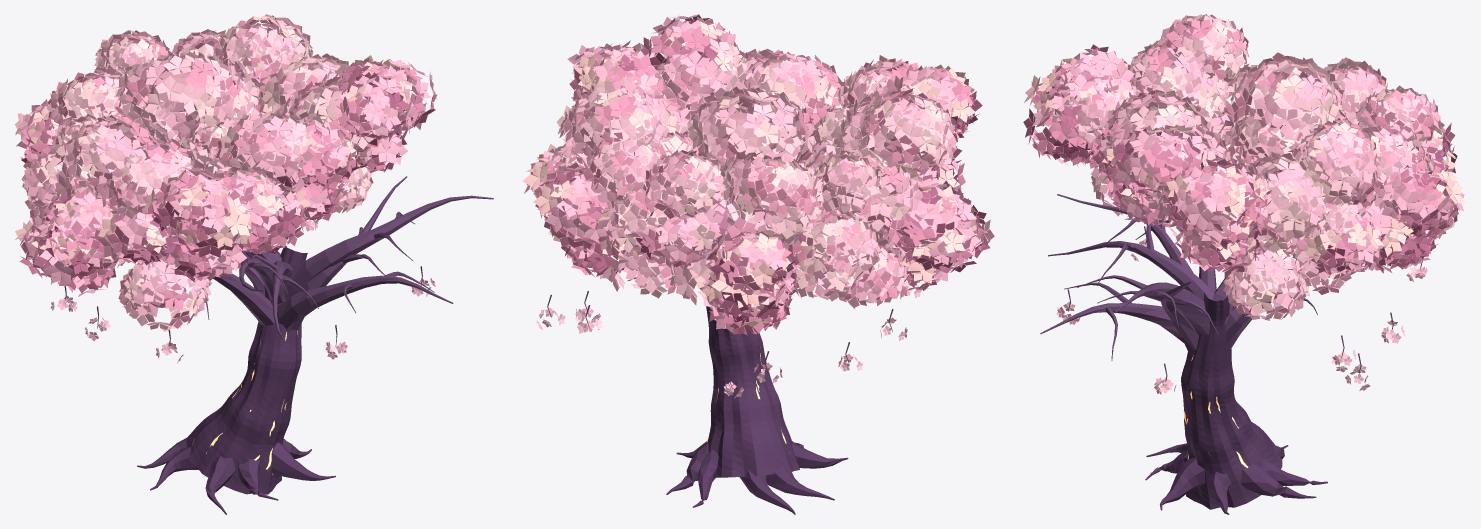
Rendered from sakura_hero_r17b_eco.glb.
3 views of the same model, side by side, from view 1: azimuth 30°, elevation 25°; view 2: azimuth 150°, elevation 25°; view 3: azimuth 270°, elevation 25° (orthographic). The views are drawn at different scales.
Parts seen in each view (by area): view 1: R17b_outer_eco, Sakura_petal_pink, Sakura_petal_blush, Trunk_bark_plumblack, Sakura_petal_warm_rose, Branches_plum, Sakura_petal_cream, R17b_bridge_eco, R17b_skirt_eco, Canopy_peach; view 2: Sakura_petal_blush, Sakura_petal_pink, R17b_outer_eco, Sakura_petal_warm_rose, Trunk_bark_plumblack, Sakura_petal_cream, R17b_bridge_eco, R17b_skirt_eco, Canopy_peach; view 3: R17b_outer_eco, Sakura_petal_pink, Sakura_petal_blush, Trunk_bark_plumblack, Sakura_petal_warm_rose, Branches_plum, Sakura_petal_cream, R17b_bridge_eco, R17b_skirt_eco, Canopy_peach.
Part boxes in pixels (<box>): R17b_outer_eco: <box>14,29,437,284</box>; Sakura_petal_pink: <box>24,17,431,363</box>; Sakura_petal_blush: <box>21,14,435,357</box>; Trunk_bark_plumblack: <box>137,219,409,514</box>; Sakura_petal_warm_rose: <box>25,15,390,328</box>; Branches_plum: <box>64,176,493,445</box>; Sakura_petal_cream: <box>29,15,373,331</box>; R17b_bridge_eco: <box>38,55,414,265</box>; R17b_skirt_eco: <box>43,132,407,296</box>; Canopy_peach: <box>82,54,354,195</box>; Sakura_petal_blush: <box>539,38,958,398</box>; Sakura_petal_pink: <box>536,39,959,396</box>; R17b_outer_eco: <box>522,14,994,327</box>; Sakura_petal_warm_rose: <box>564,41,959,308</box>; Trunk_bark_plumblack: <box>666,306,848,514</box>; Sakura_petal_cream: <box>548,44,960,298</box>; R17b_bridge_eco: <box>547,40,965,318</box>; R17b_skirt_eco: <box>561,125,962,335</box>; Canopy_peach: <box>610,64,933,282</box>; R17b_outer_eco: <box>1023,44,1466,274</box>; Sakura_petal_pink: <box>1051,15,1440,394</box>; Sakura_petal_blush: <box>1055,14,1433,393</box>; Trunk_bark_plumblack: <box>1145,291,1327,514</box>; Sakura_petal_warm_rose: <box>1070,19,1438,319</box>; Branches_plum: <box>1040,194,1422,455</box>; Sakura_petal_cream: <box>1052,14,1436,315</box>; R17b_bridge_eco: <box>1050,70,1442,261</box>; R17b_skirt_eco: <box>1056,137,1438,277</box>; Canopy_peach: <box>1090,32,1413,302</box>.
Bounding box in the file's own units: 27.56 × 25.89 × 25.17.
